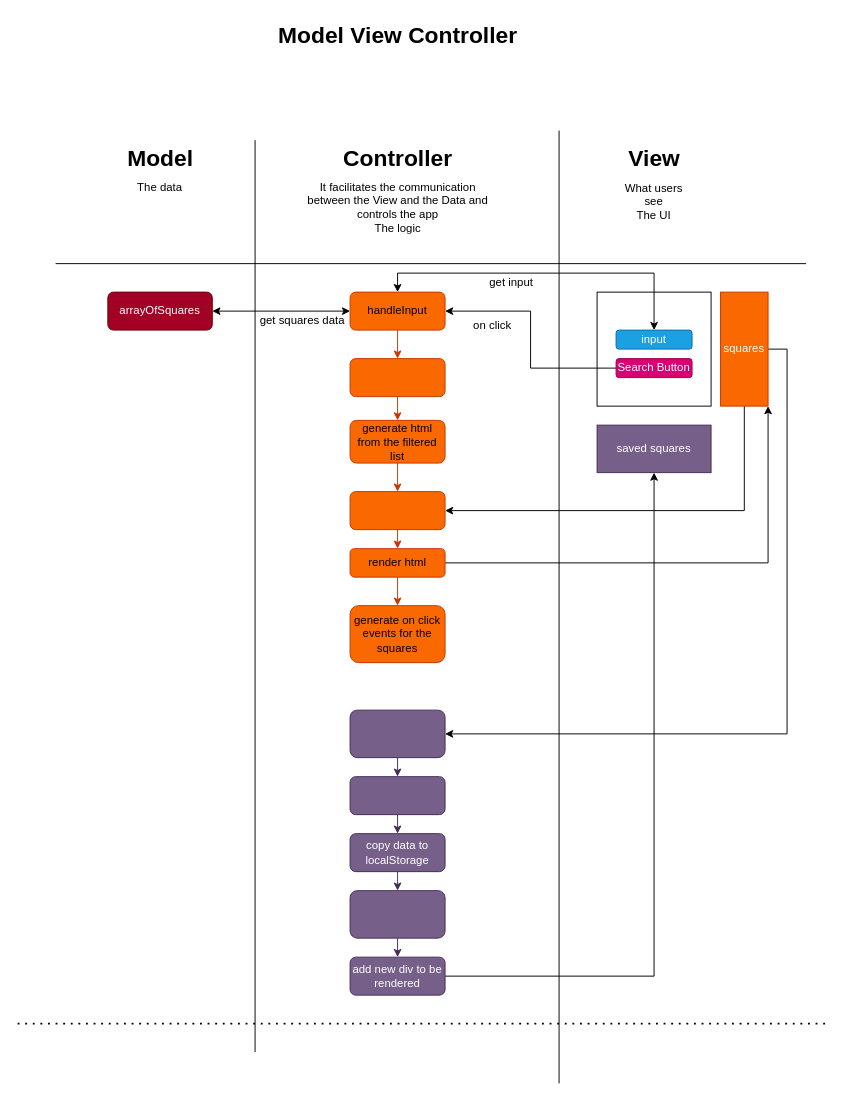
The diagram is 843 pixels wide and 1101 high, and some of its shapes have lost their labels. The box of each missing label's shape, as (x1, y1, x2, y2) in pixels:
filter the arrayOfSquares based on input: (349, 358, 445, 397)
generate new square div: (349, 890, 445, 938)
get element to render the html in: (349, 491, 445, 530)
handle square click: (349, 709, 445, 758)
save square to bookmarks: (349, 776, 445, 815)
